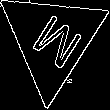M_SW: (22, 6, 82, 74)
